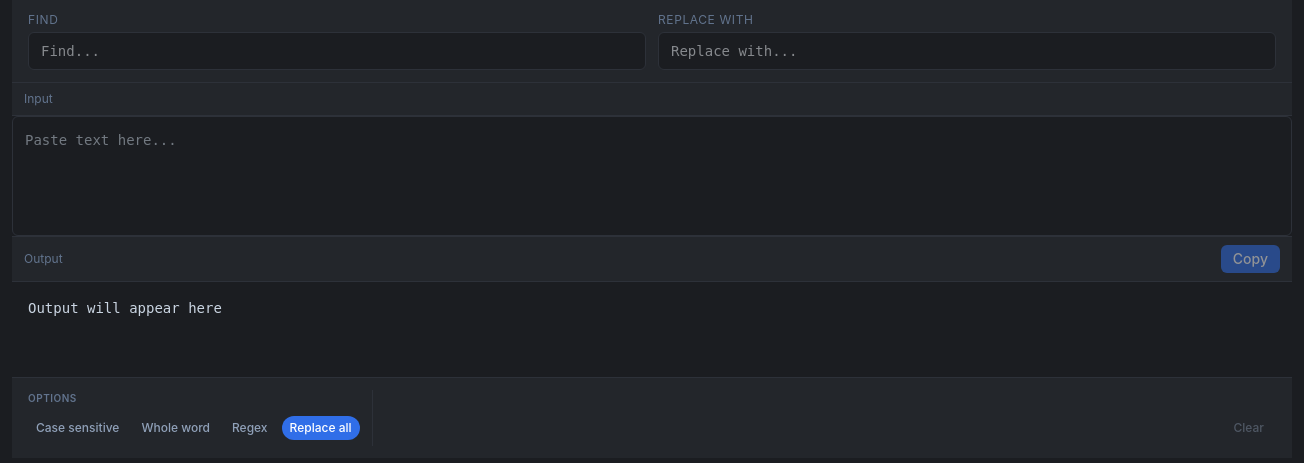
it: FindReplaceTool › regex mode — digits replaced with NUM
The image size is (1304, 463).
In the text box named "text to search in": {"x": 652, "y": 176} x1=13 y1=117 x2=1291 y2=235, type "price 100 qty 50"
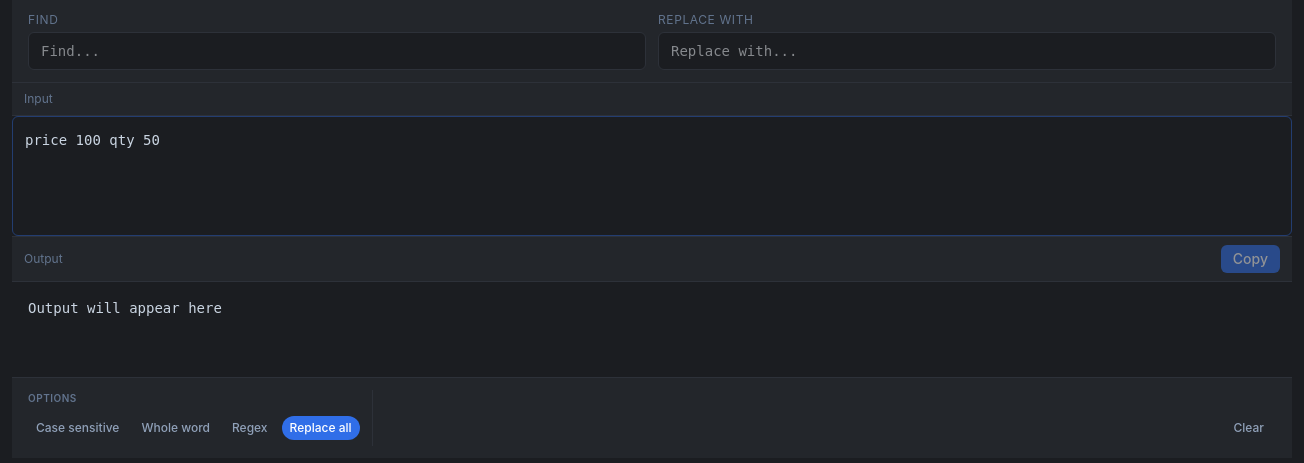
Click the button with aria-label "regex mode": {"x": 250, "y": 428} x1=224 y1=416 x2=276 y2=440
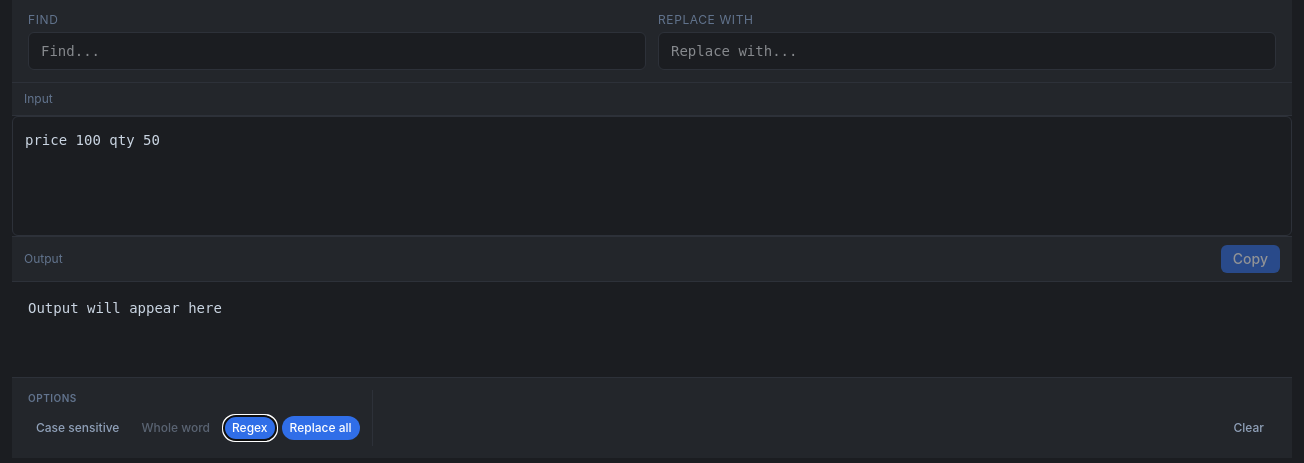
In the field labelled "Find...": {"x": 337, "y": 51} x1=28 y1=32 x2=646 y2=70, type "\\d+"
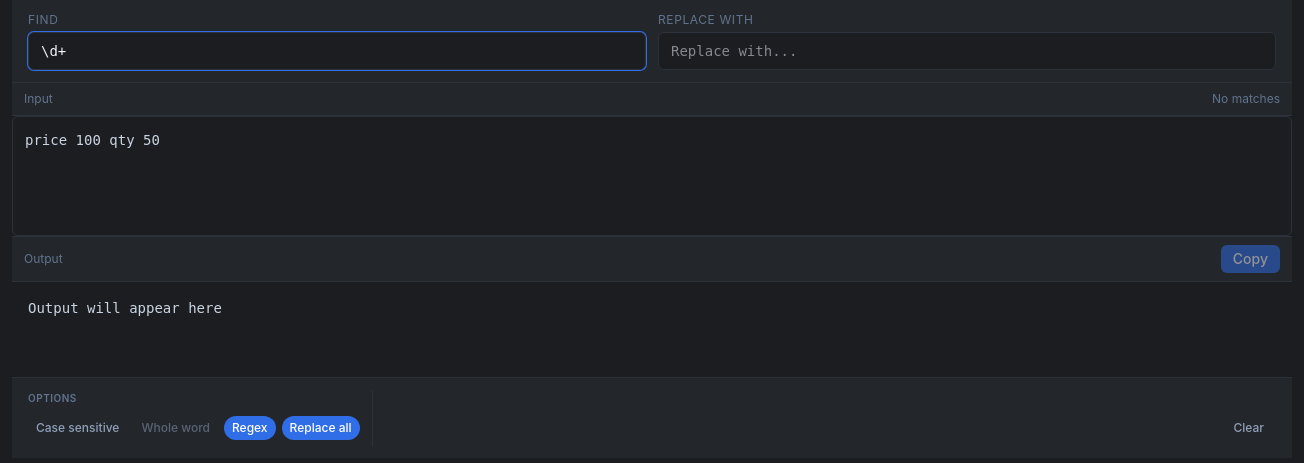
In the field labelled "Replace with...": {"x": 967, "y": 51} x1=658 y1=32 x2=1276 y2=70, type "NUM"
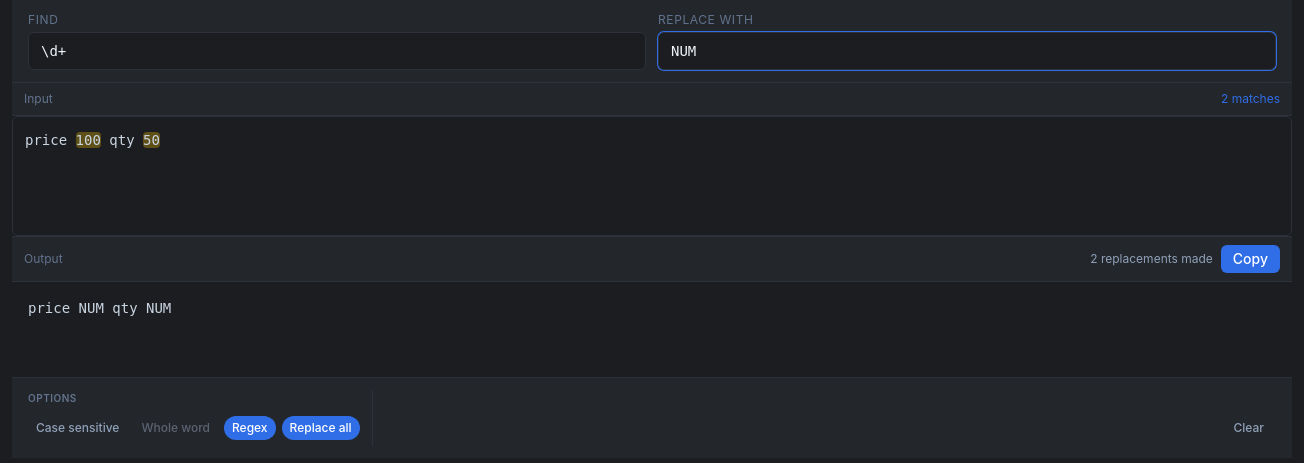
Now the text named "find replace output" reads "price NUM qty NUM", box x1=28 y1=300 x2=171 y2=316
